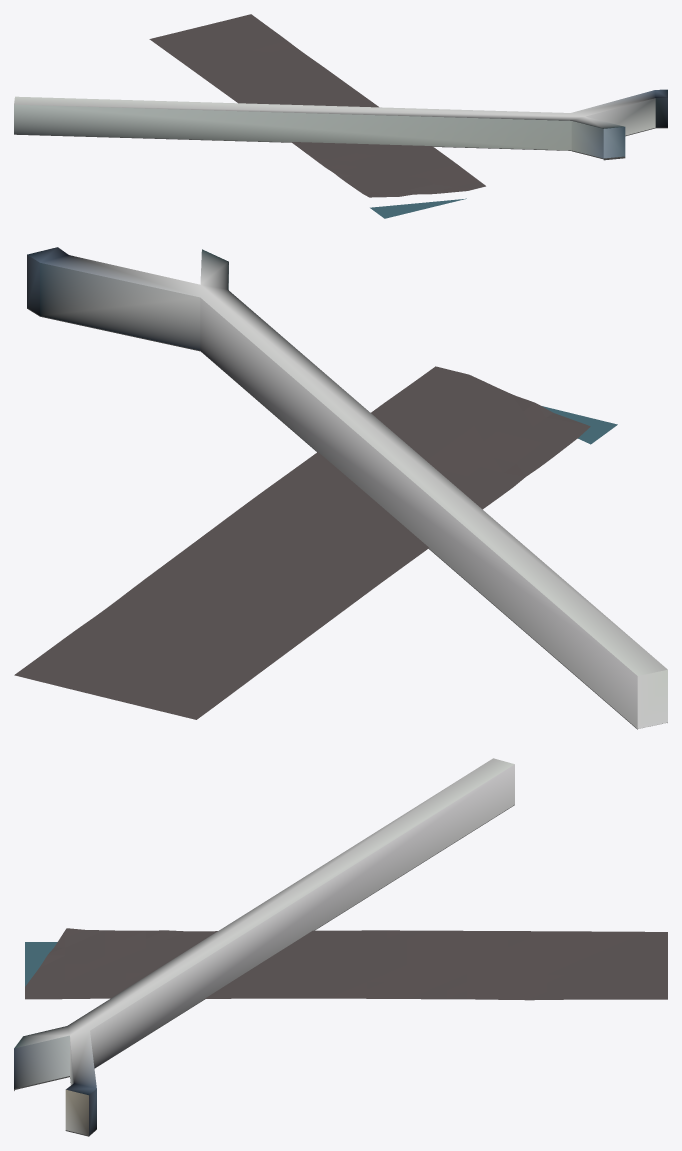
The picture shows the model from 3 angles, top to bottom: view 1: azimuth 30°, elevation 25°; view 2: azimuth 150°, elevation 25°; view 3: azimuth 270°, elevation 25°; orthographic projection. The views are drawn at different scales.
Visible parts, largest first — view 1: c_p06_p04; view 2: c_p06_p04; view 3: c_p06_p04.
Part boxes in pixels (left/top/right/bottom): c_p06_p04: left=14, top=14, right=667, bottom=218; c_p06_p04: left=14, top=247, right=667, bottom=729; c_p06_p04: left=14, top=758, right=667, bottom=1136.
Size of the model in its own units: 159 by 11.18 by 130.
